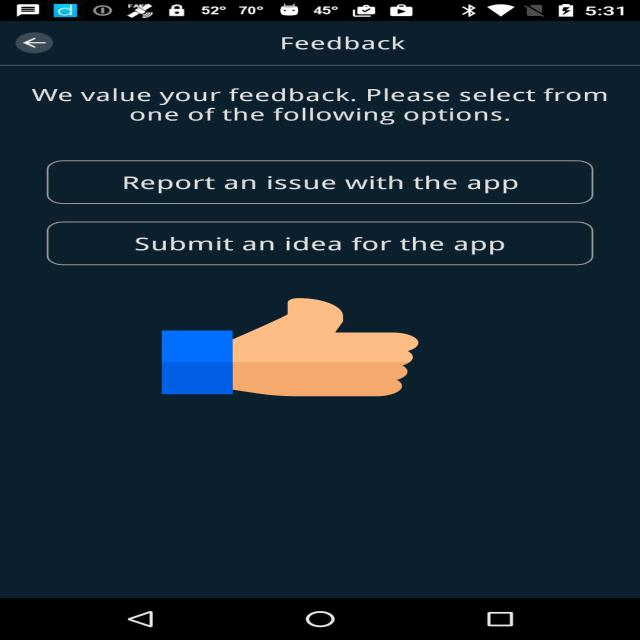privacy zuckering: (162, 296, 418, 398)
